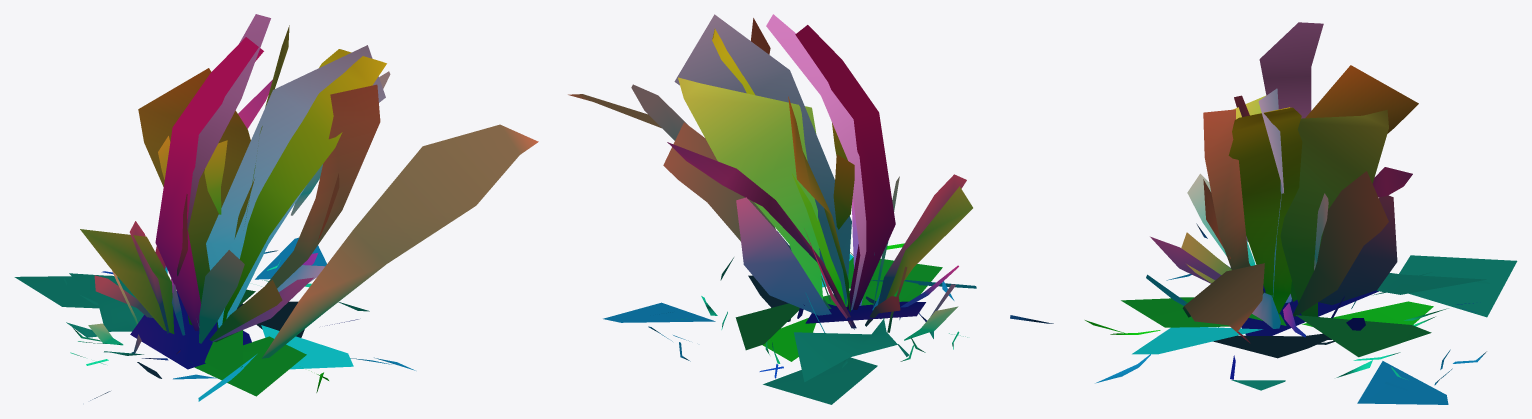
Rendered from Dead_Shrubs_vdknafgha_Low_vdknafgha_VarH_LOD2.fbx.
3 renders of one model, left to right at view 1: azimuth 30°, elevation 25°; view 2: azimuth 150°, elevation 25°; view 3: azimuth 270°, elevation 25°, orthographic. The views are drawn at different scales.
Visible parts, largest first — view 1: _dcw3_VarH_LOD3; view 2: _dcw3_VarH_LOD3; view 3: _dcw3_VarH_LOD3.
Part boxes in pixels (bbox=[...]): _dcw3_VarH_LOD3: bbox=[14, 14, 538, 401]; _dcw3_VarH_LOD3: bbox=[568, 14, 1053, 404]; _dcw3_VarH_LOD3: bbox=[1085, 22, 1517, 404].
Size of the model in its own units: 93.12 by 55.41 by 64.92.
